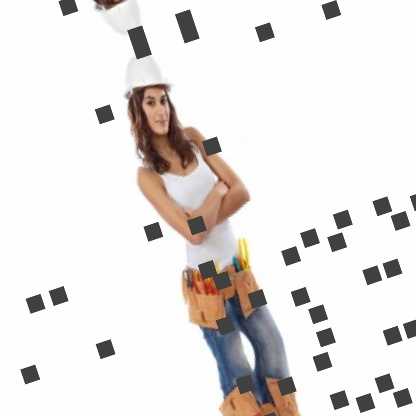white: (106, 36, 179, 106)
